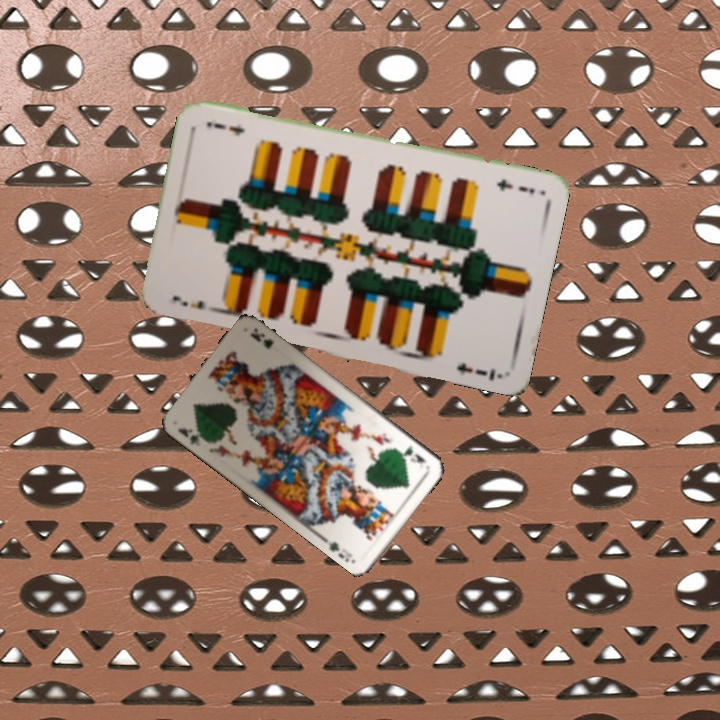E7: (168, 291, 222, 316), (492, 174, 537, 197)
GK: (174, 424, 212, 449), (399, 441, 429, 466)
